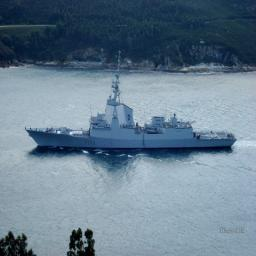Fragata: (26, 53, 238, 153)
